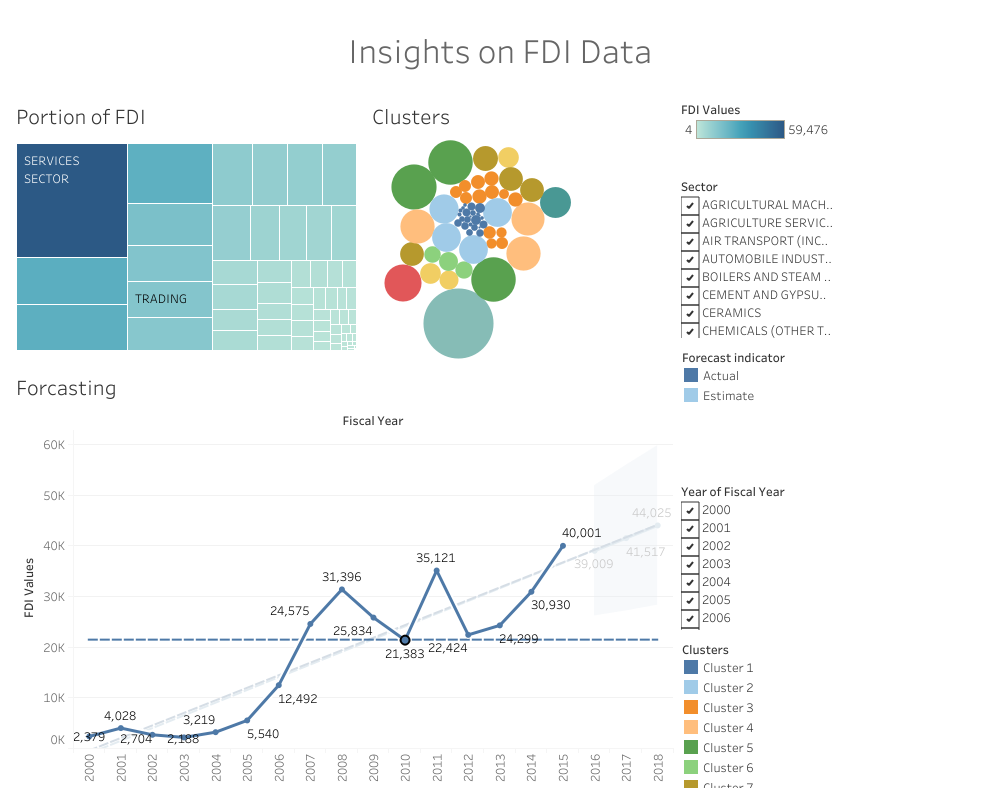

What the dashboard file says about the page in this screenshot:
{"tool":"tableau","page":{"name":"Dashboard 1","canvas":[1000,800],"ordinal":0},"visuals":[{"type":"worksheet","box":[0,0,1000,800]},{"type":"worksheet","box":[8,8,984,83.6]},{"type":"worksheet","param":"horz","box":[8,91.6,984,700.4]},{"type":"worksheet","box":[8,91.6,669,700.4]},{"type":"worksheet","param":"vert","box":[8,91.6,355.7,271.4]},{"type":"worksheet","title":"Portion of FDI","mark":"Automatic","box":[8,91.6,355.7,271.4]},{"type":"worksheet","title":"Clusters","mark":"Circle","box":[363.7,91.6,313.4,271.4]},{"type":"worksheet","param":"vert","box":[677,91.6,160,700.4]},{"type":"worksheet","title":"Portion of FDI","mark":"Automatic","param":"[federated.1hihqdb0e9dj9510upmci0fmhf6m].[sum:Pivot Field Values:qk]","box":[677,91.6,160,80]},{"type":"worksheet","title":"Forcasting","mark":"Automatic","rows":["Pivot Field Values"],"cols":["Calculation_1064538428519428096"],"param":"[federated.1hihqdb0e9dj9510upmci0fmhf6m].[none:Sector:nk]","box":[677,171.6,160,170]},{"type":"worksheet","title":"Forcasting","mark":"Automatic","rows":["Pivot Field Values"],"cols":["Calculation_1064538428519428096"],"param":"[federated.1hihqdb0e9dj9510upmci0fmhf6m].[none:Forecast Indicator:nk]","box":[677,341.6,160,135]},{"type":"worksheet","param":"vert","box":[8,363,669,429]},{"type":"worksheet","title":"Forcasting","mark":"Automatic","rows":["Pivot Field Values"],"cols":["Calculation_1064538428519428096"],"box":[8,363,669,429]},{"type":"worksheet","title":"Portion of FDI","mark":"Automatic","param":"[federated.1hihqdb0e9dj9510upmci0fmhf6m].[yr:Calculation_1064538428519428096:ok]","box":[677,476.6,160,157.7]},{"type":"worksheet","title":"Clusters","mark":"Circle","param":"[federated.1hihqdb0e9dj9510upmci0fmhf6m].[none:AdhocCluster:1:ok]","box":[677,634.3,160,157.7]}]}

Visuals, with their boxes in screenshot pixels (x1, y1, x2, y2), scaled from the page's 1000x800 canvas onto the 999x799 screenshot:
worksheet: [0, 0, 998, 798]
worksheet: [8, 8, 991, 91]
worksheet: [8, 91, 991, 791]
worksheet: [8, 91, 676, 791]
worksheet: [8, 91, 363, 363]
"Portion of FDI" worksheet: [8, 91, 363, 363]
"Clusters" worksheet (Circle marks): [363, 91, 676, 363]
worksheet: [676, 91, 836, 791]
"Portion of FDI" worksheet: [676, 91, 836, 171]
"Forcasting" worksheet: [676, 171, 836, 341]
"Forcasting" worksheet: [676, 341, 836, 476]
worksheet: [8, 363, 676, 791]
"Forcasting" worksheet: [8, 363, 676, 791]
"Portion of FDI" worksheet: [676, 476, 836, 634]
"Clusters" worksheet (Circle marks): [676, 634, 836, 791]
